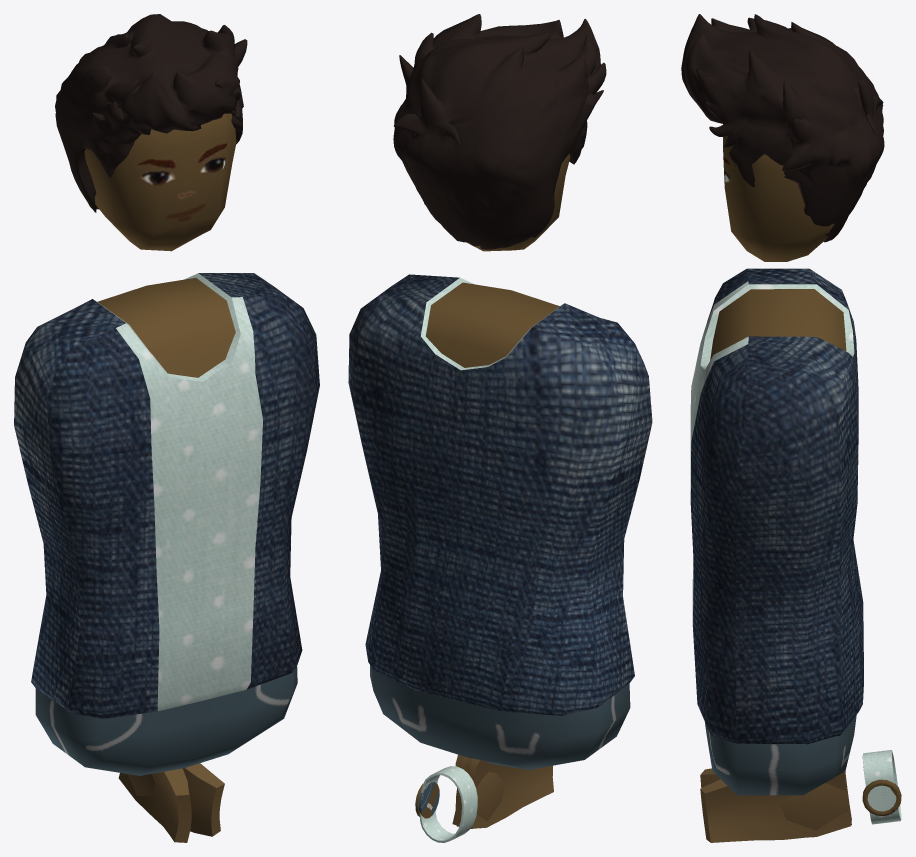
File: Avatar3.fbx
3 renders of one model, left to right at view 1: azimuth 30°, elevation 25°; view 2: azimuth 150°, elevation 25°; view 3: azimuth 270°, elevation 25°, orthographic. The views are drawn at different scales.
Visible parts, largest first — view 1: Body3, Hair3, Head3, HandL, HandR; view 2: Body3, Hair3, HandL, Watch, HandR, Head3; view 3: Body3, Hair3, Head3, HandR, Watch, HandL.
Part boxes in pixels (x1=…): Body3: x1=14, y1=273, x2=319, y2=775; Hair3: x1=55, y1=14, x2=247, y2=212; Head3: x1=84, y1=113, x2=236, y2=251; HandL: x1=118, y1=768, x2=191, y2=842; HandR: x1=127, y1=763, x2=224, y2=836; Body3: x1=348, y1=274, x2=652, y2=769; Hair3: x1=393, y1=14, x2=606, y2=249; HandL: x1=455, y1=756, x2=553, y2=828; Watch: x1=415, y1=766, x2=477, y2=842; HandR: x1=452, y1=754, x2=504, y2=828; Head3: x1=424, y1=153, x2=570, y2=251; Body3: x1=690, y1=268, x2=863, y2=795; Hair3: x1=681, y1=14, x2=884, y2=242; Head3: x1=723, y1=124, x2=834, y2=261; HandR: x1=700, y1=771, x2=851, y2=842; Watch: x1=862, y1=750, x2=901, y2=824; HandL: x1=700, y1=768, x2=851, y2=837.
Size of the model in its own units: 0.4646 by 1.3 by 0.3221.
Materials: 4 (2 with a texture image).
